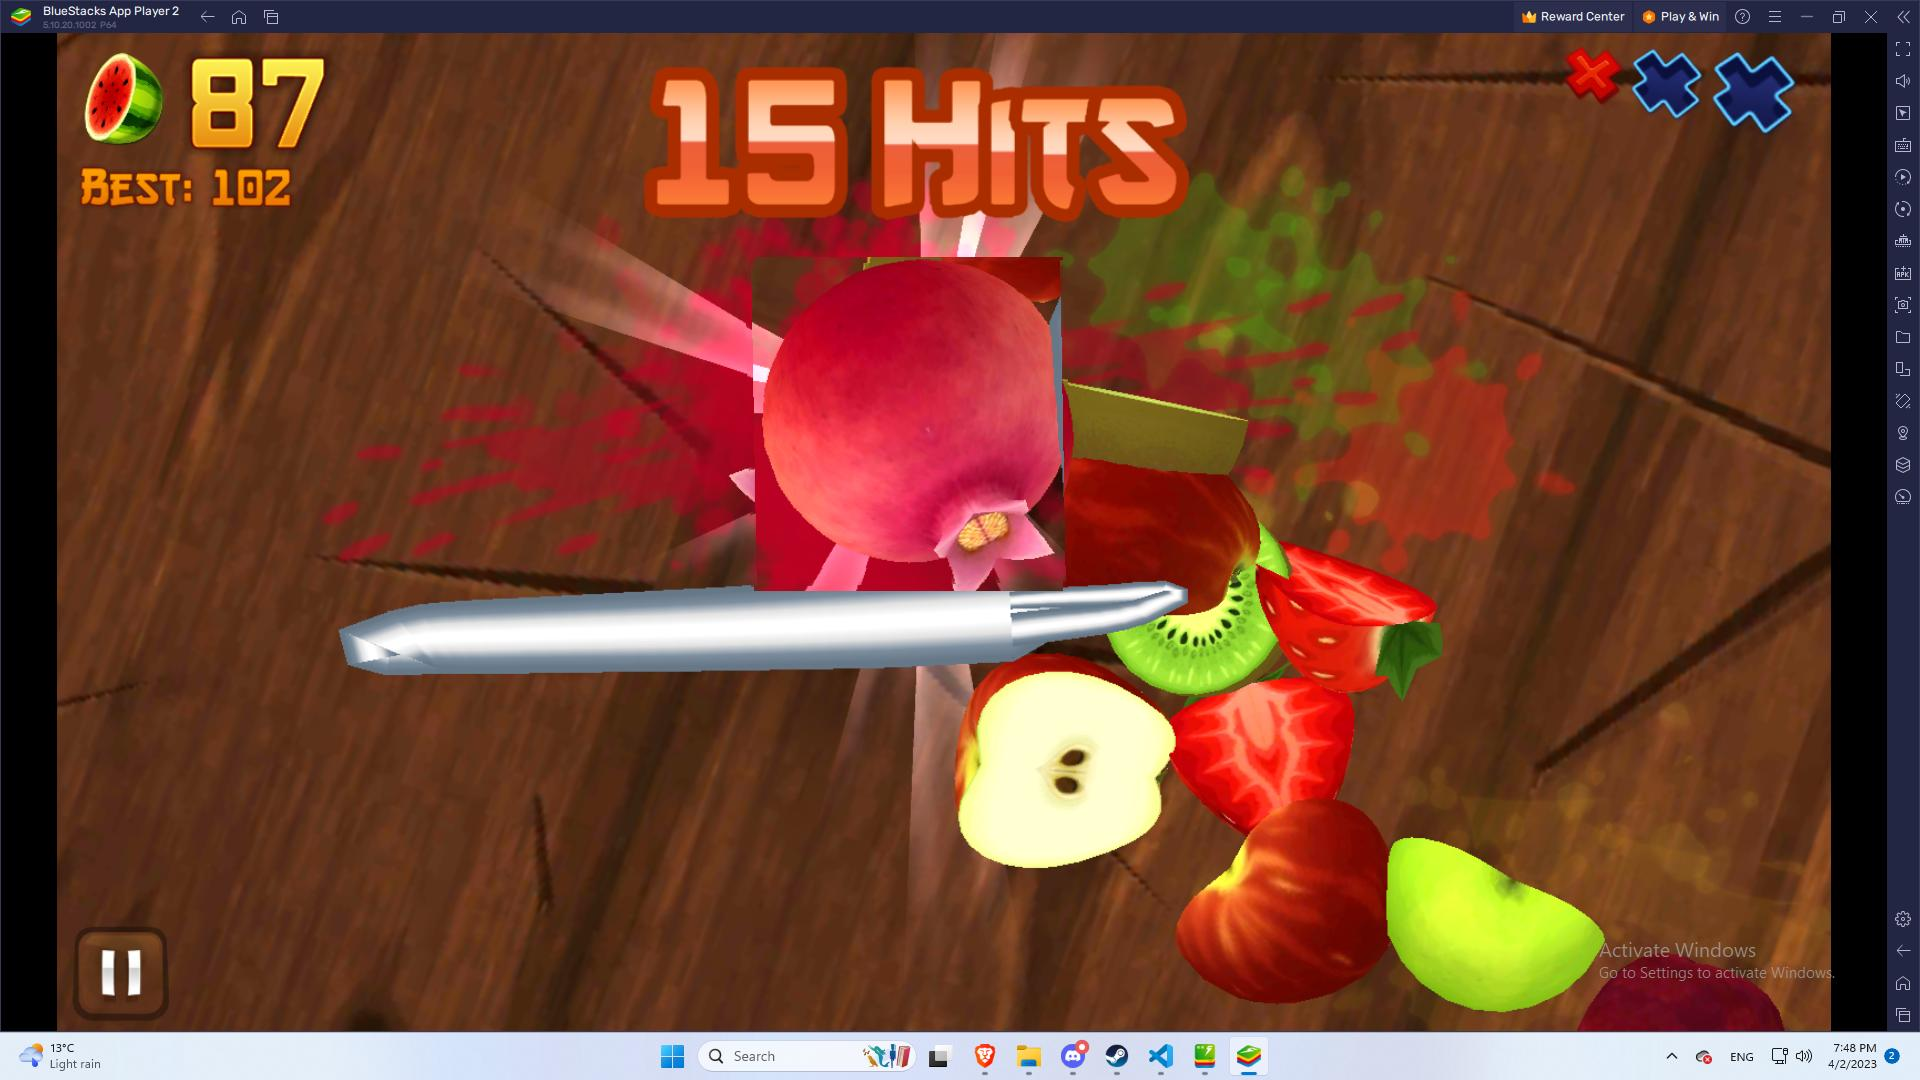fruit: (746, 262, 1071, 587)
